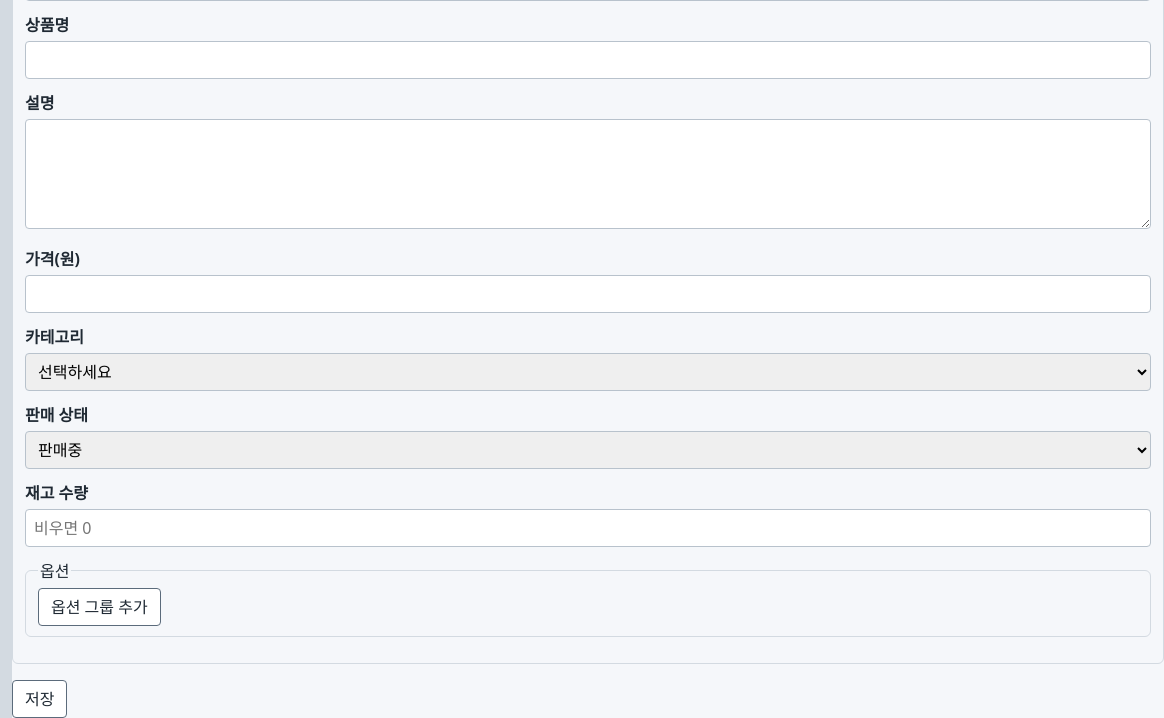
Test: ProductForm › 필수 항목(상품명·가격·카테고리)이 비어 있으면 안내하고 저장하지 않는다
(page scrolled)
Click the button "저장" at x=40, y=699, box [12,680,68,717]
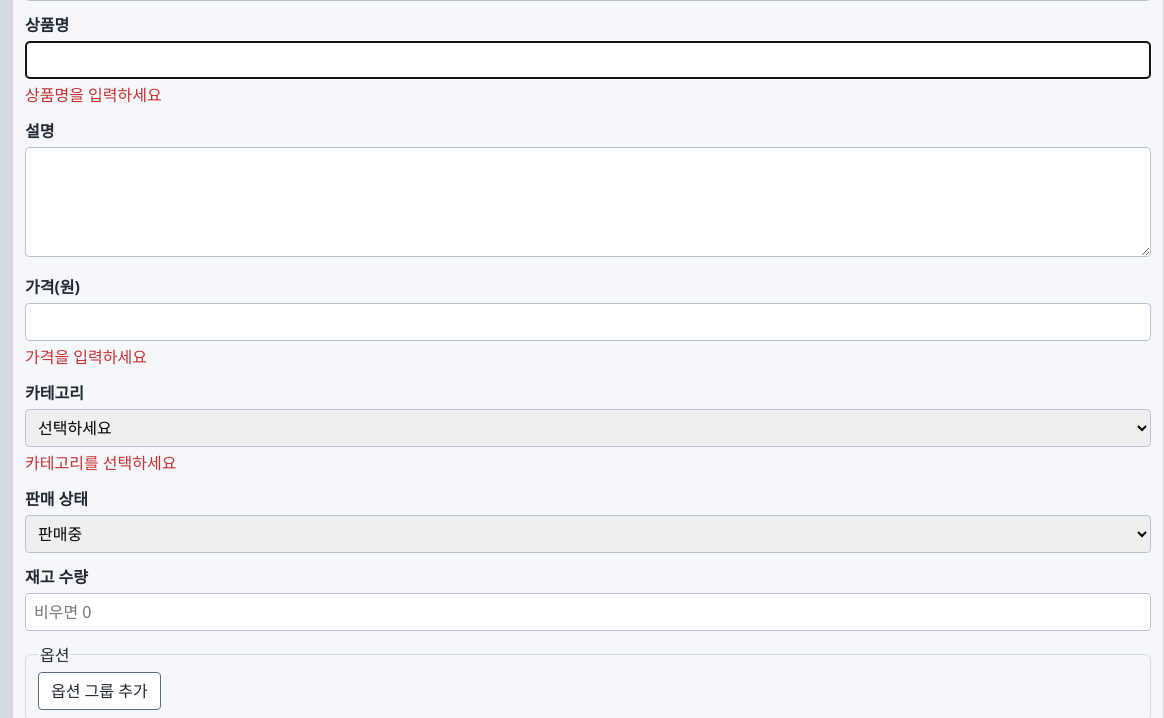
Expected: the text "상품명을 입력하세요" is shown, [25,84,162,106]
Expected: the text "가격을 입력하세요" is shown, [25,346,147,368]
Expected: the text "카테고리를 선택하세요" is shown, [25,452,176,474]
